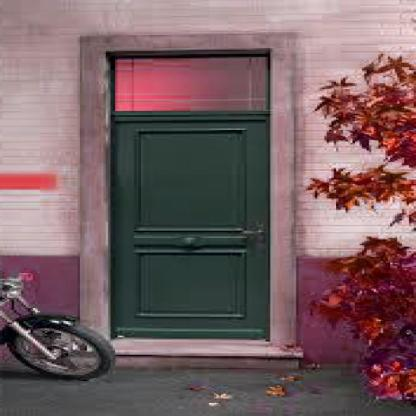door: (71, 23, 315, 356)
